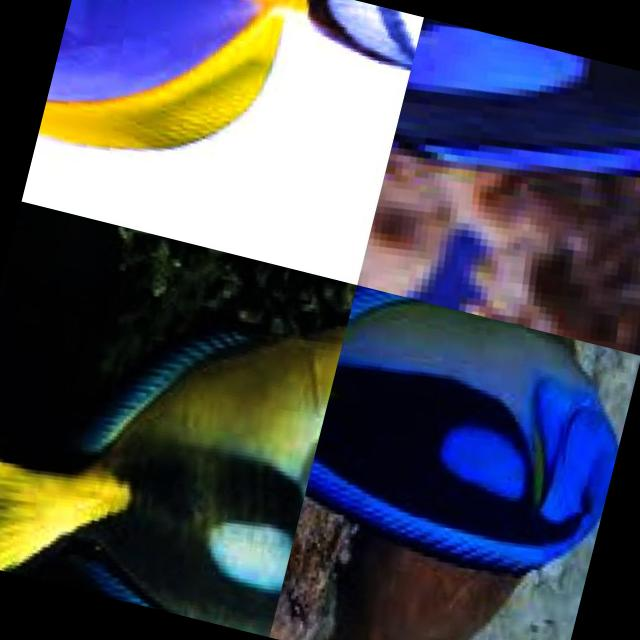BlueTang: (0, 254, 344, 637), (296, 284, 639, 594), (40, 0, 410, 202), (389, 16, 640, 219)
